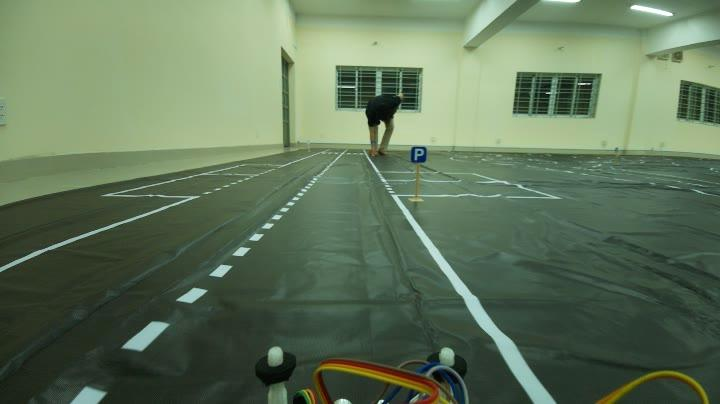parking: (410, 142, 429, 169)
